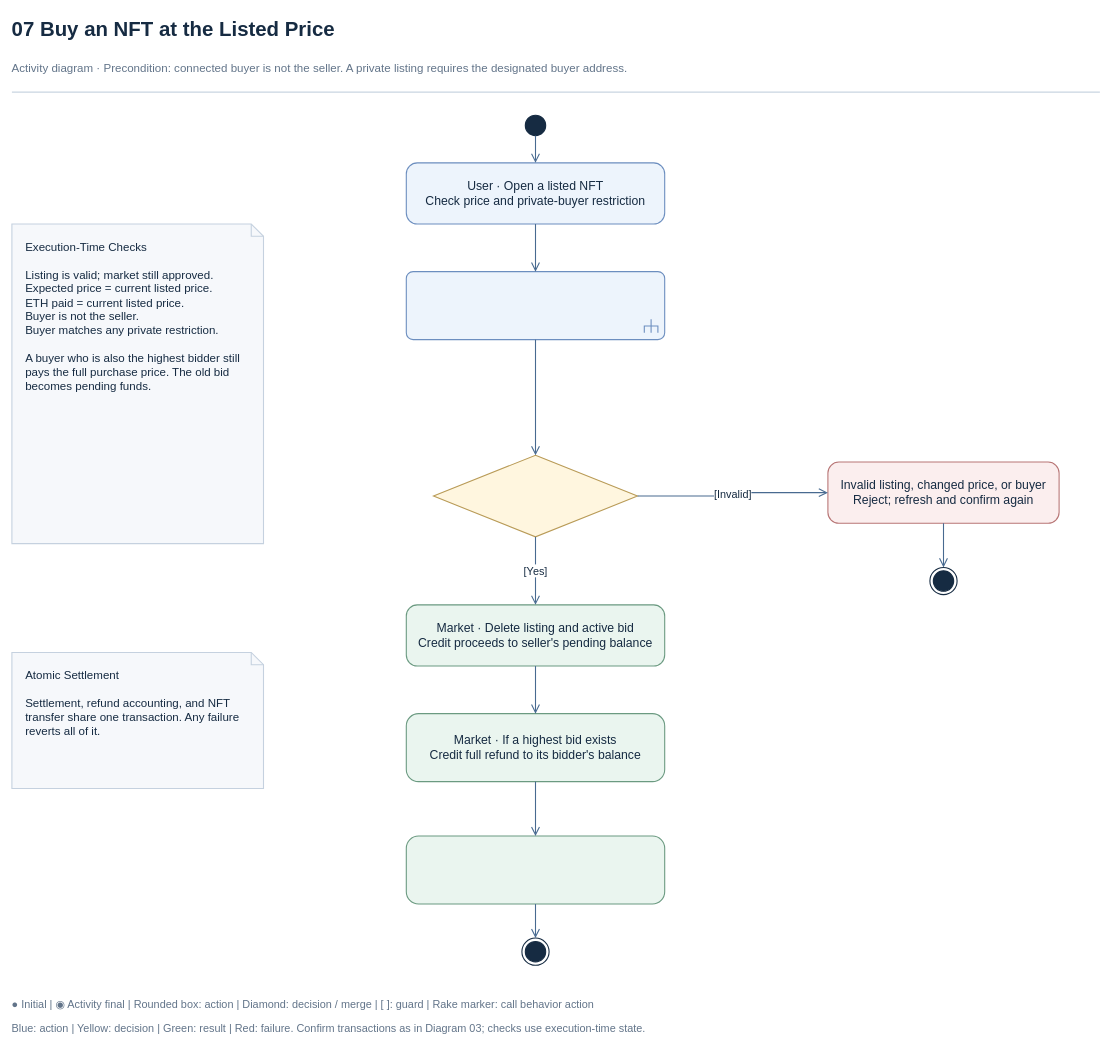
The diagram is 1112 pixels wide and 1048 high, and some of its shapes have lost their labels. Each missing label, with the box of its shape:
Confirm buy(id, expectedPrice) Send the exact confirmed price (03): (405, 271, 665, 340)
Listing, price, and buyer valid?: (433, 454, 638, 537)
Safely transfer NFT to buyer; refresh Seller / bidder may withdraw later (10): (405, 835, 665, 904)
